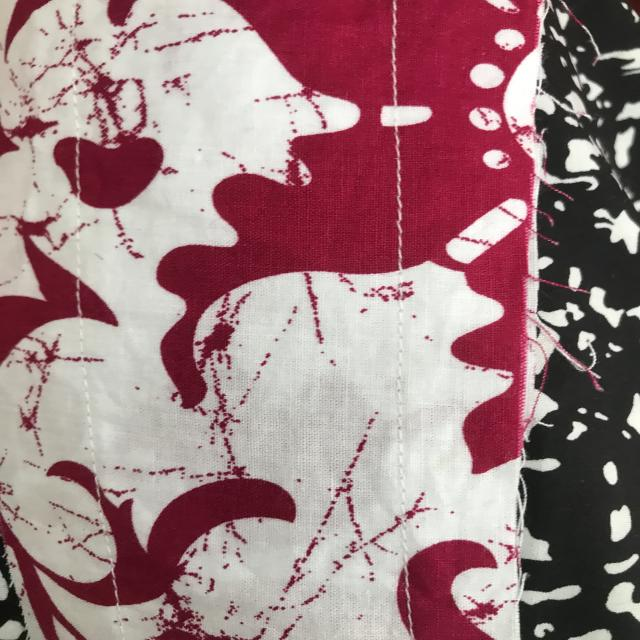good: (379, 140, 421, 262), (375, 13, 408, 92), (392, 324, 413, 444), (75, 373, 102, 447)
